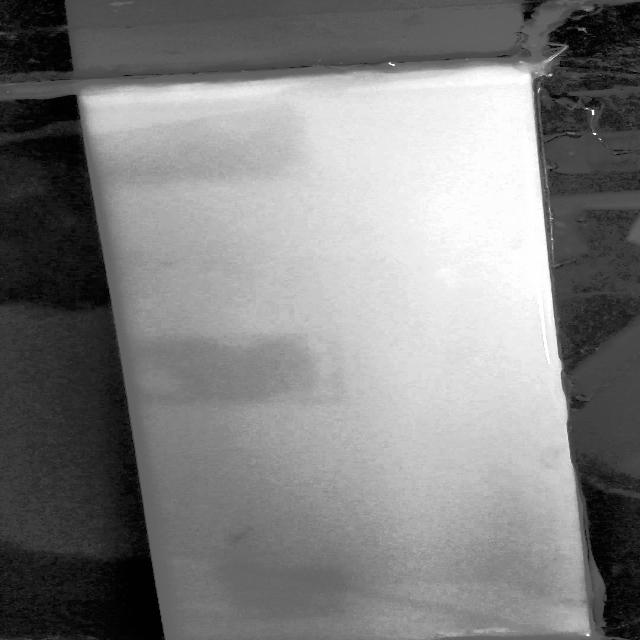shrimp: (216, 523, 275, 545)
